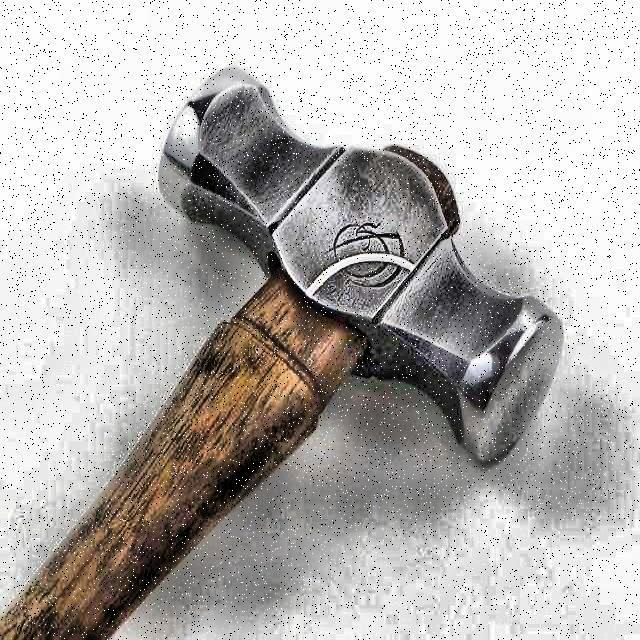hammer: (0, 62, 574, 640)
